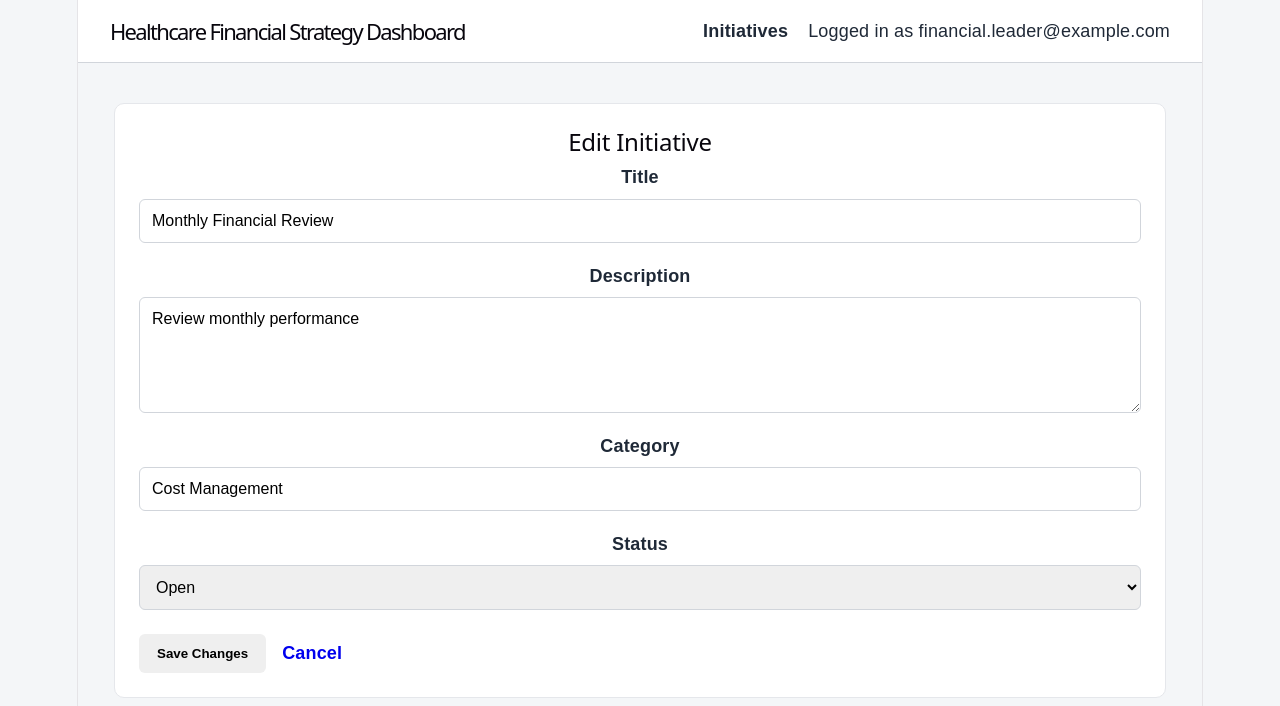
Test: Healthcare Financial Strategy Dashboard › validates a blank title on the edit form
Clear the field labelled "Title": (640, 220) [139,198,1141,242]
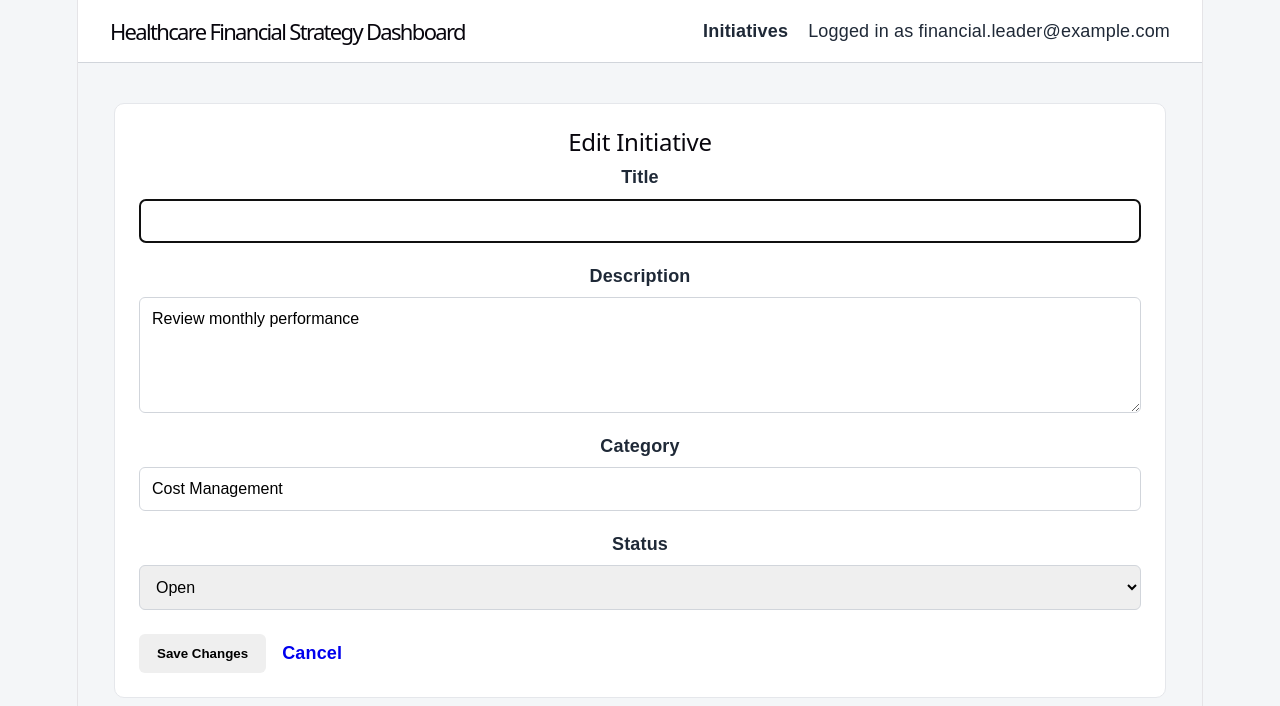
Click the button "Save Changes": (203, 653) [139,634,266,673]
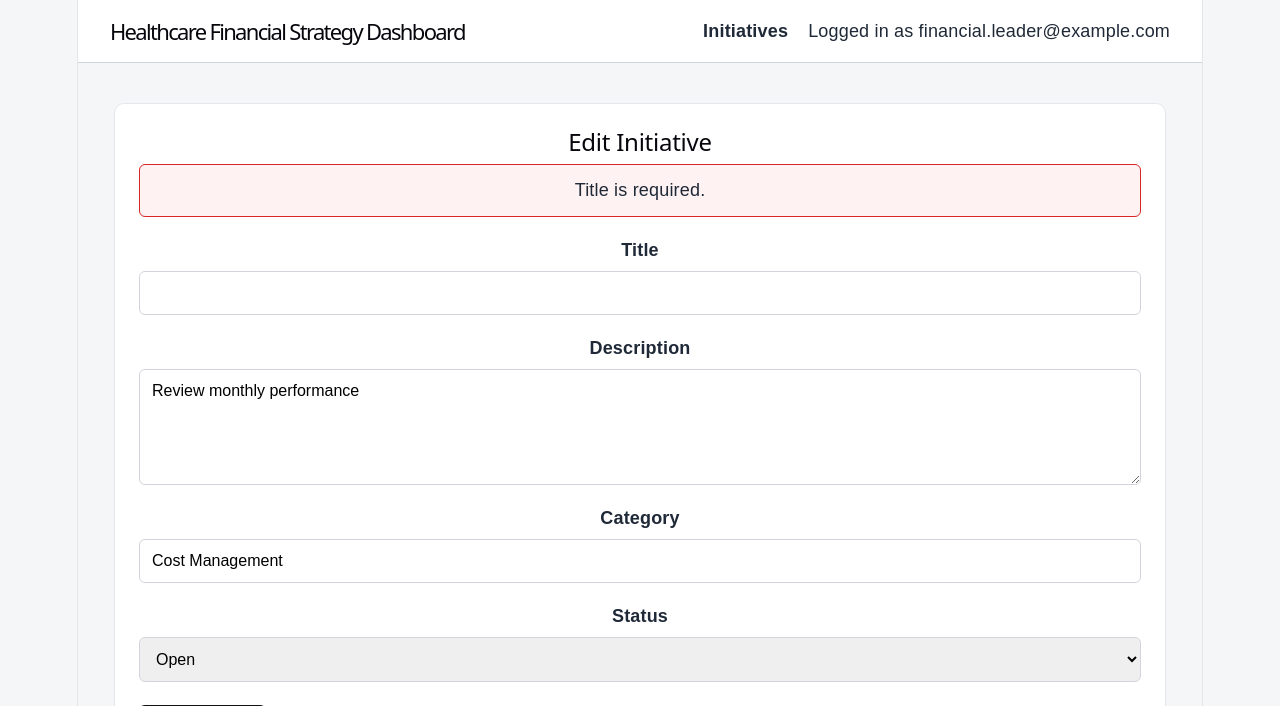
Now the text "Title is required." is shown, box [139,164,1141,216]
